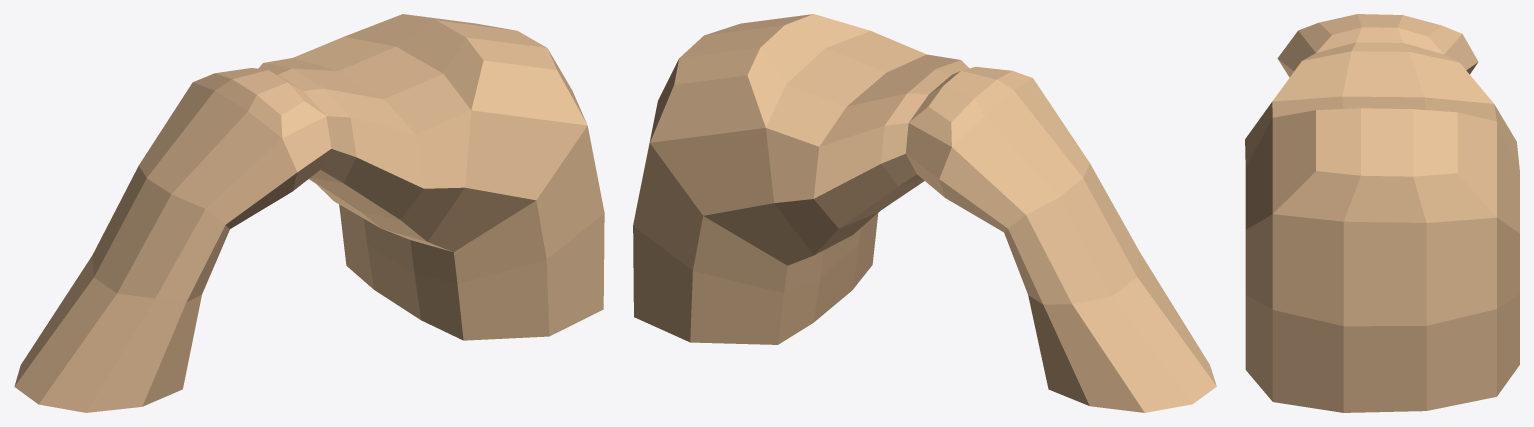
Rendered from Rock_Arch_03.fbx.
3 renders of one model, left to right at view 1: azimuth 30°, elevation 25°; view 2: azimuth 150°, elevation 25°; view 3: azimuth 270°, elevation 25°, orthographic. The views are drawn at different scales.
Visible parts, largest first — view 1: Rock_Arch_03; view 2: Rock_Arch_03; view 3: Rock_Arch_03.
Part boxes in pixels (x1,y1,x2,y2): Rock_Arch_03: [14, 14, 604, 412]; Rock_Arch_03: [633, 14, 1216, 412]; Rock_Arch_03: [1245, 14, 1519, 412].
Bounding box in the file's own units: 1928 × 880 × 875.
